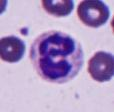N: (30, 30, 84, 83)
